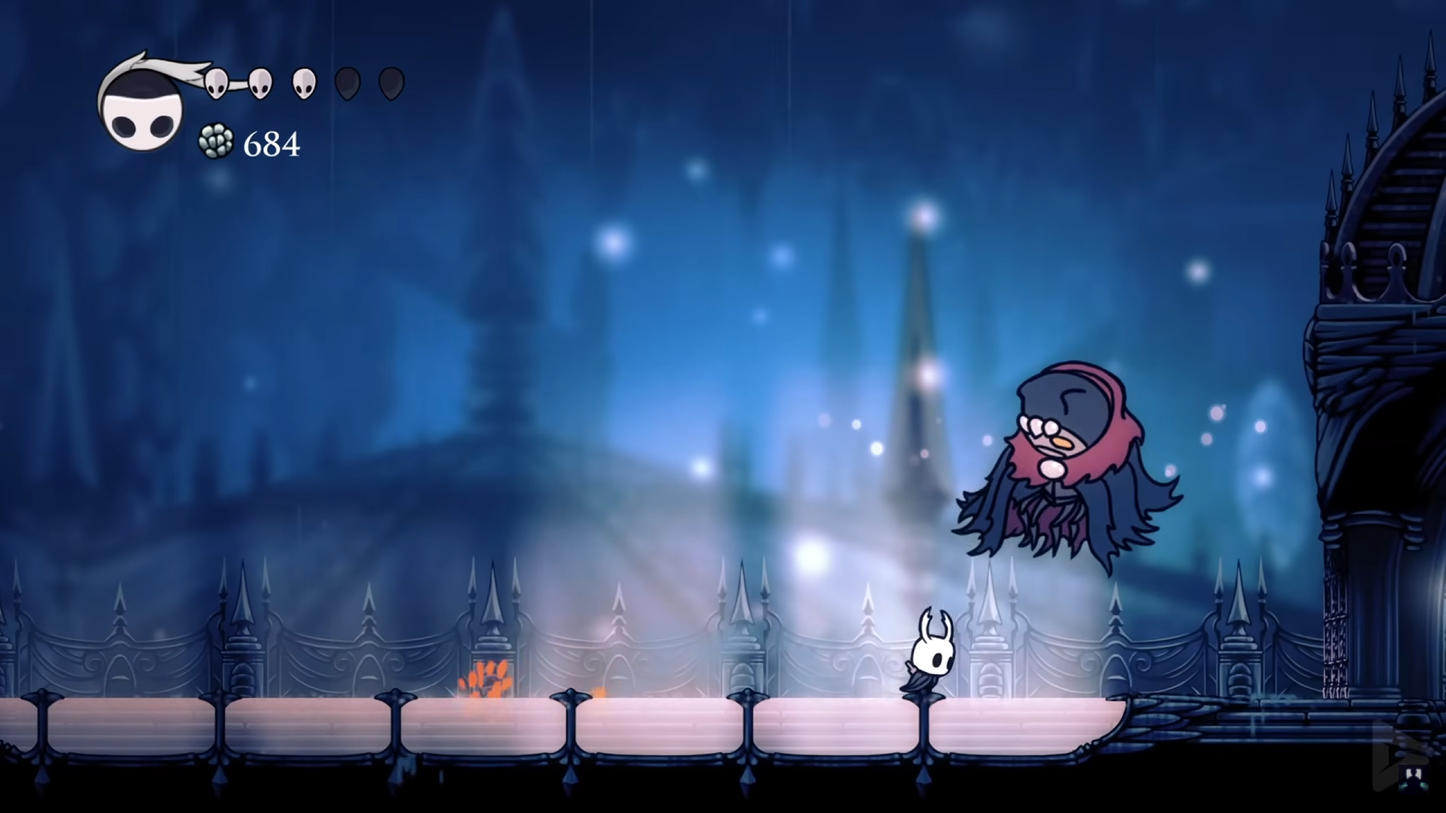HK: (898, 607, 961, 711)
